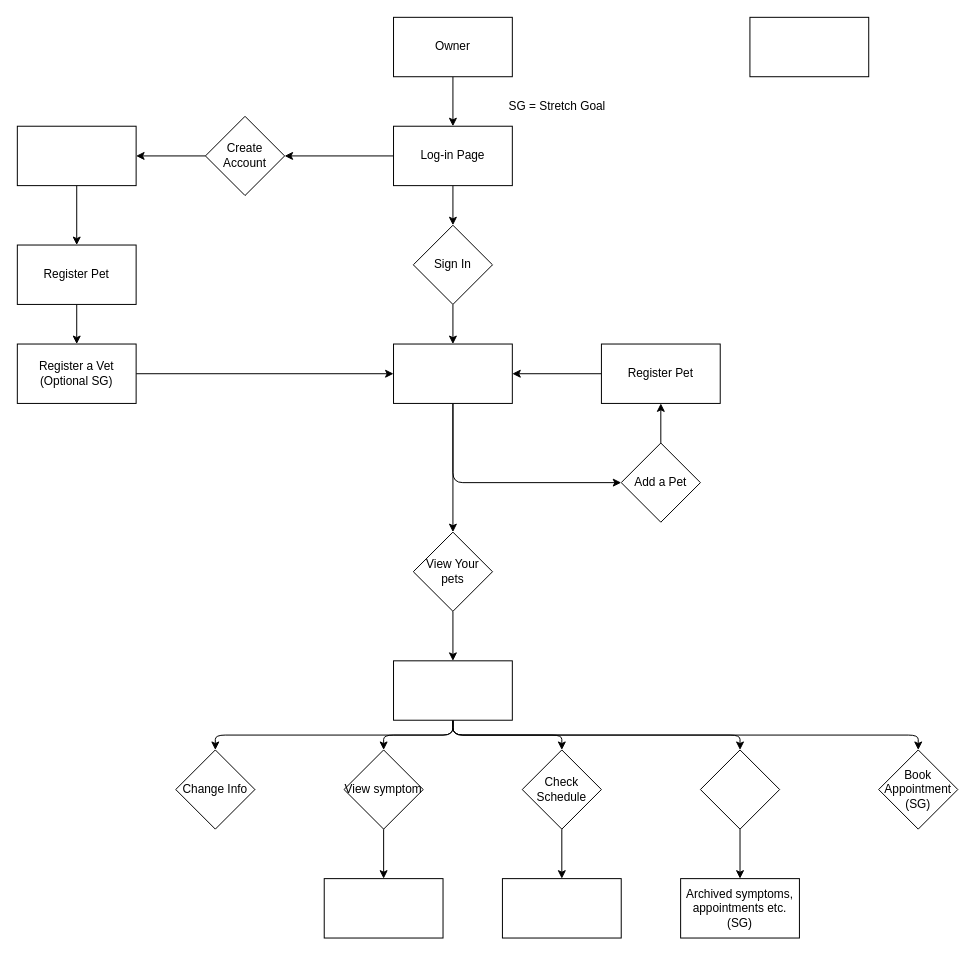
Some shapes in this 975 by 955 pixel diagram are drawn without their labels. The centre of each missing label's shape, as x and y in pixels:
"Home Page (List of Pets)" goes at point 452,373.
"List of reminders (Calendar SG)" goes at point 561,908.
"Pet Page" goes at point 452,690.
"Register Details" goes at point 76,155.
"Symptoms" goes at point 383,908.
"Vet (SG)" goes at point 809,46.
"View History" goes at point 739,789.
